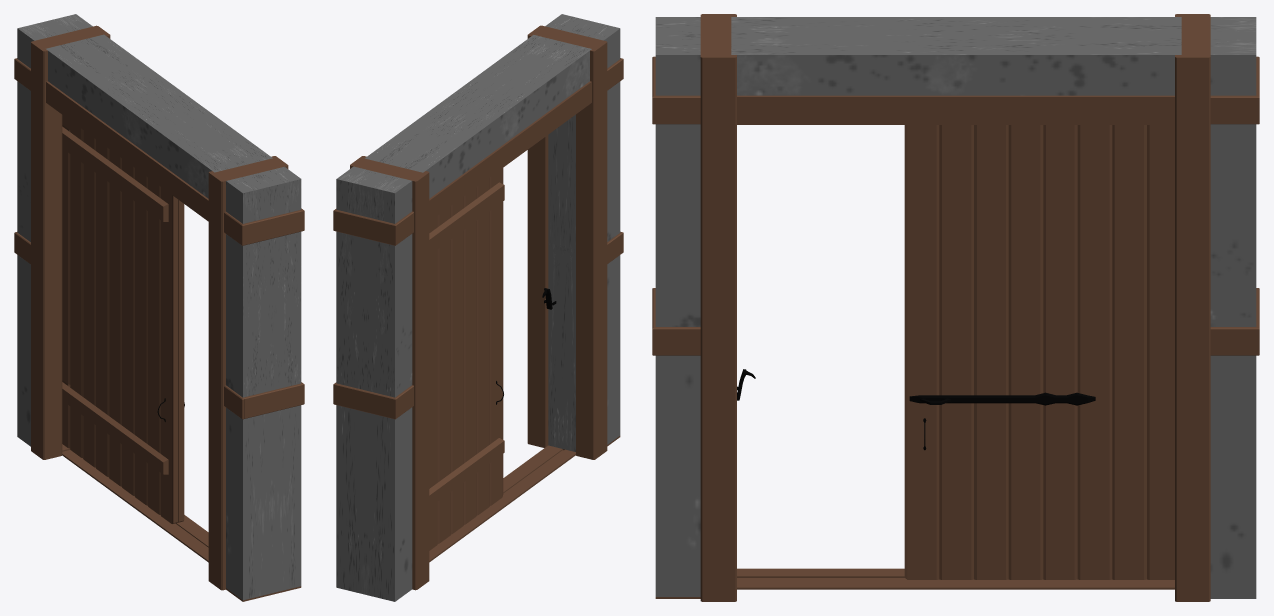
The model's file is Wooden_Gate.fbx.
3 renders of one model, left to right at view 1: azimuth 30°, elevation 25°; view 2: azimuth 150°, elevation 25°; view 3: azimuth 270°, elevation 25°, orthographic. The views are drawn at different scales.
Parts seen in each view (by area): view 1: WoodenGate; view 2: WoodenGate; view 3: WoodenGate.
Part boxes in pixels (bbox=[...]): WoodenGate: bbox=[14, 14, 304, 601]; WoodenGate: bbox=[333, 14, 623, 601]; WoodenGate: bbox=[652, 14, 1259, 601].
Size of the model in its own units: 68.94 by 400 by 405.
5 materials, 5 textured.
